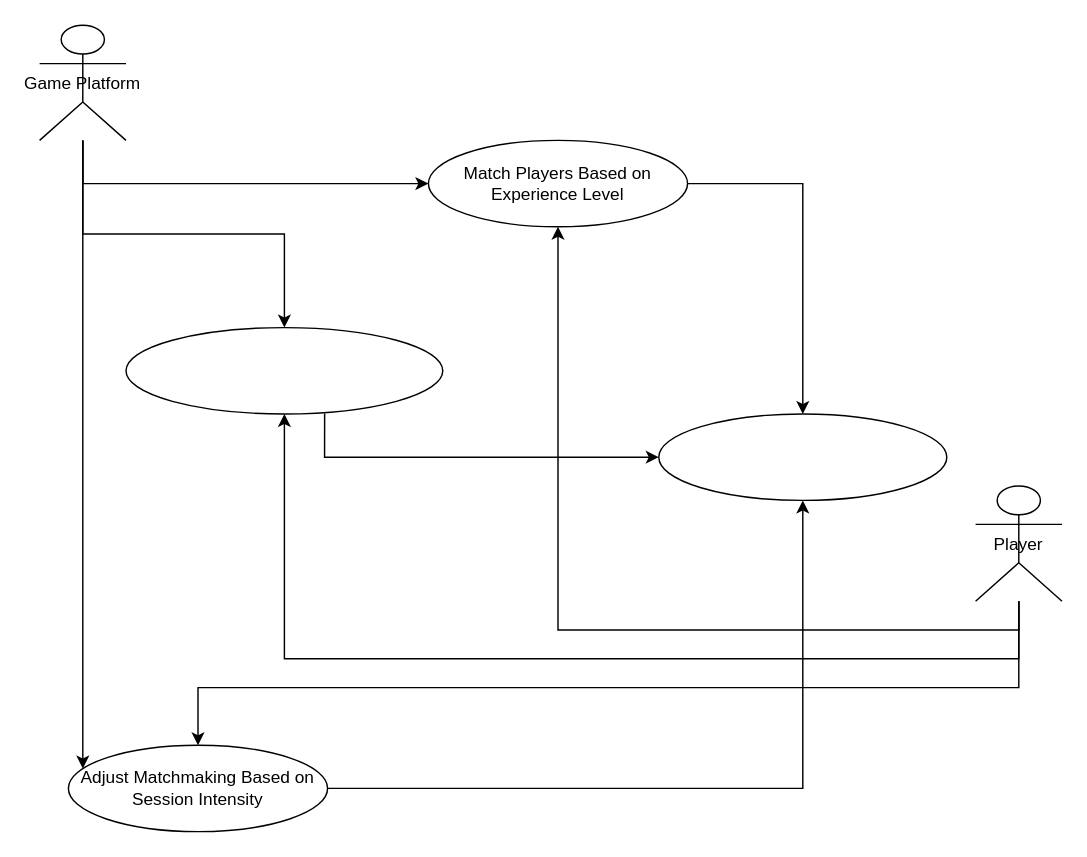
The diagram is 1087 pixels wide and 857 high, and some of its shapes have lost their labels. Each missing label, with the centre of its shape:
Alternative Matching Strategy (AI/Cross-region): the point at 802,456
Handle Matchmaking for Highly Skilled Players: the point at 284,370
